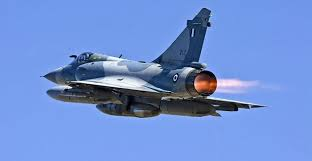fighter: (36, 7, 273, 121)
